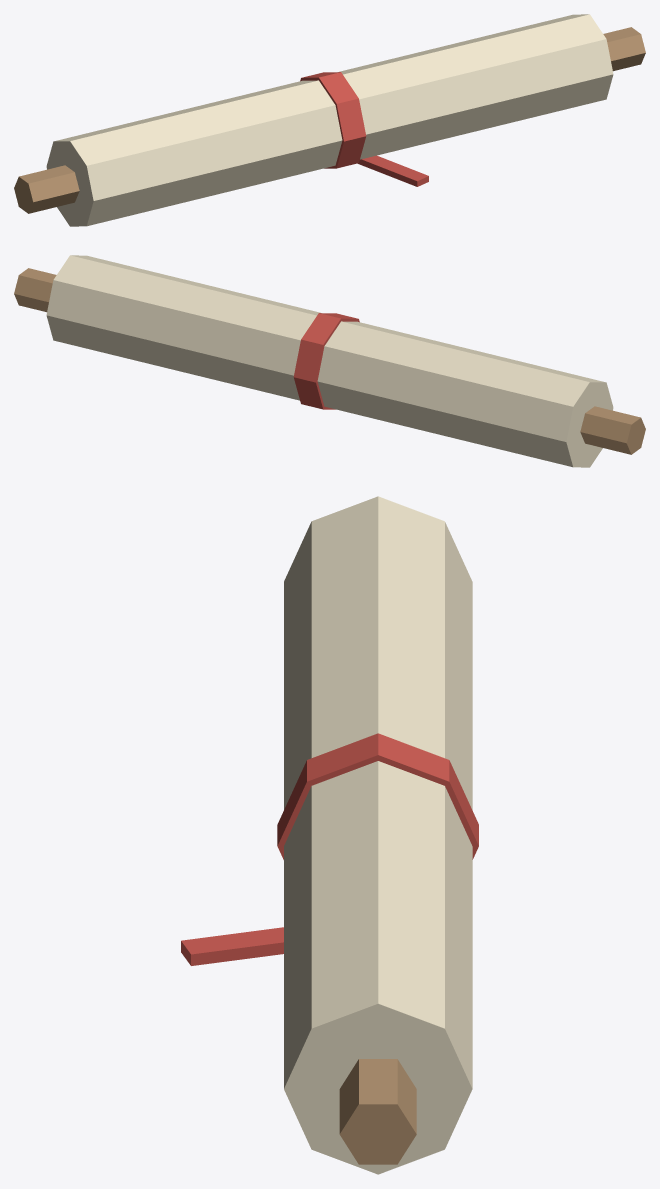
File: prop-scroll-tied.fbx
The picture shows the model from 3 angles, top to bottom: view 1: azimuth 30°, elevation 25°; view 2: azimuth 150°, elevation 25°; view 3: azimuth 270°, elevation 25°; orthographic projection. The views are drawn at different scales.
Visible parts, largest first — view 1: prop-scroll-tied; view 2: prop-scroll-tied; view 3: prop-scroll-tied.
Part boxes in pixels (x1,y1,x2,y2): prop-scroll-tied: (14,14,645,226); prop-scroll-tied: (14,255,645,467); prop-scroll-tied: (181,496,478,1174).
Bounding box in the file's own units: 33 × 4.7 × 6.95.
